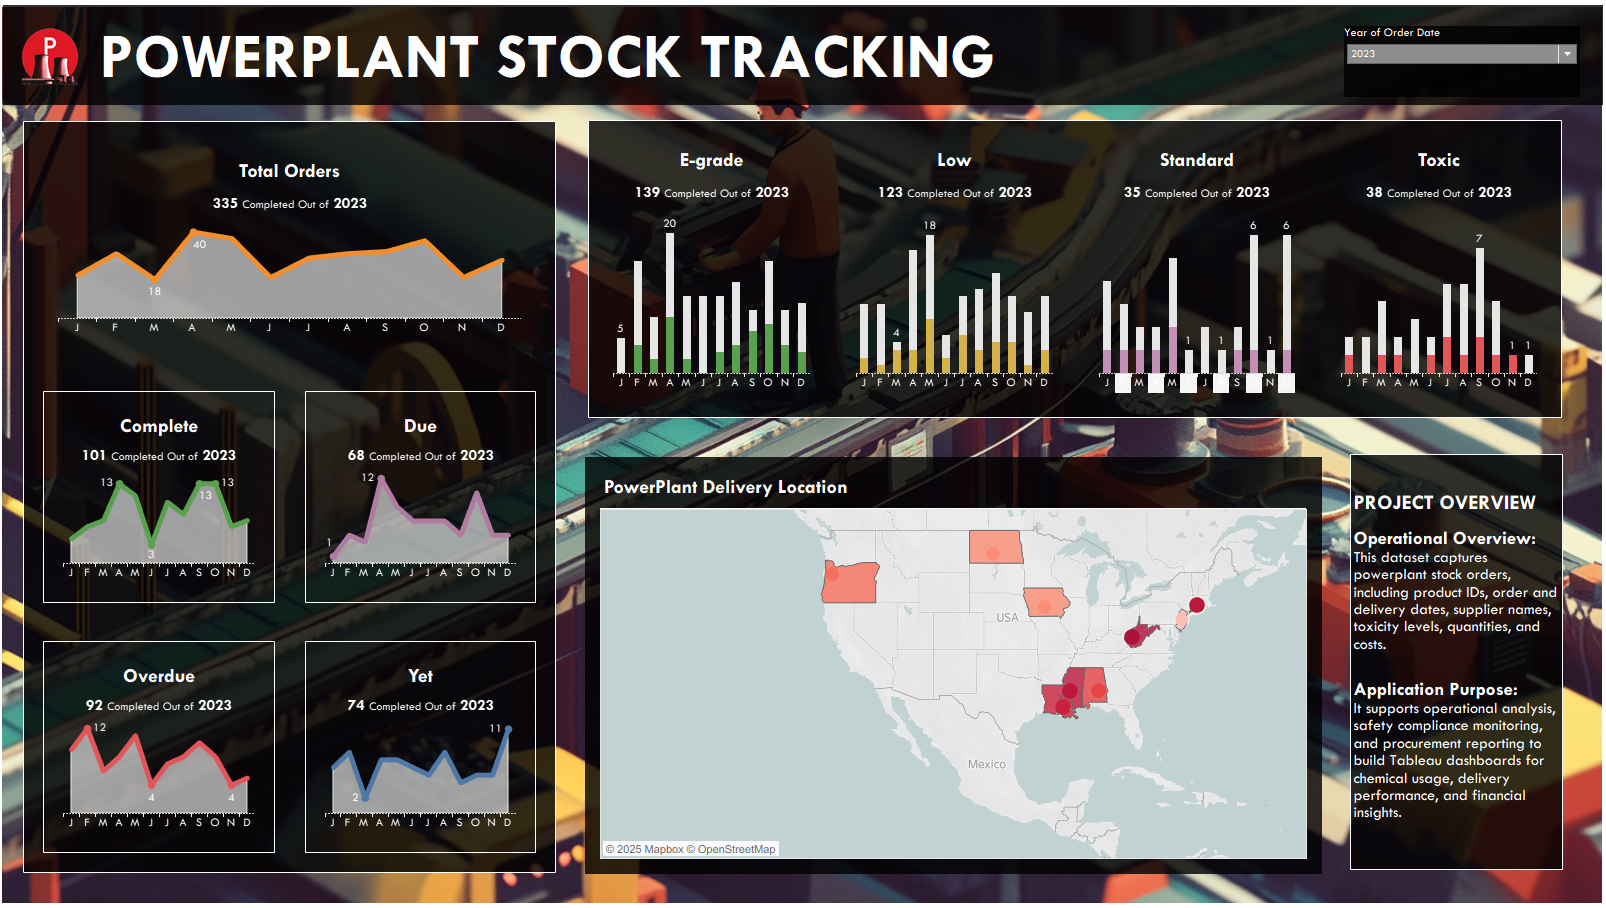

The dashboard page shown, as its layout file describes it:
{"tool":"tableau","page":{"name":"Dashboard 1","canvas":[1600,900],"ordinal":0},"visuals":[{"type":"image","param":"Image/jellyman7461_theme_of_productivity_workbman_on_an_assembly_line_79cf1d19-a","box":[0,0,1600,900]},{"type":"blank","box":[1,0,1600,100]},{"type":"filter","title":"Total 2","param":"[federated.1a669qf1wguesc17z2mcz0d1qr94].[yr:Order Date:ok]","box":[1342,21,236,71]},{"type":"worksheet","title":"E-grade 2","mark":"Automatic","box":[607,136,205,67]},{"type":"worksheet","title":"Low 2","mark":"Automatic","box":[850,136,205,67]},{"type":"worksheet","title":"Standard 2","mark":"Automatic","box":[1093,136,204,67]},{"type":"worksheet","title":"Toxic 2","mark":"Automatic","box":[1335,136,204,67]},{"type":"worksheet","title":"Total 2","mark":"Automatic","box":[52,147,471,67]},{"type":"worksheet","title":"E-Grade","mark":"Bar","rows":["Order ID","Calculation_1323495372498608128"],"cols":["Chemical Grade","Order Date"],"box":[607,203,205,189]},{"type":"worksheet","title":"Low","mark":"Bar","rows":["Order ID","Calculation_1323495372498608128"],"cols":["Chemical Grade","Order Date"],"box":[850,203,205,189]},{"type":"worksheet","title":"Standard","mark":"Bar","rows":["Order ID","Calculation_1323495372498608128"],"cols":["Chemical Grade","Order Date"],"box":[1093,203,204,189]},{"type":"worksheet","title":"Toxic","mark":"Bar","rows":["Order ID","Calculation_1323495372498608128"],"cols":["Chemical Grade","Order Date"],"box":[1335,203,204,189]},{"type":"worksheet","title":"Total","mark":"Automatic","rows":["Order ID","Order ID"],"cols":["Order Date"],"box":[52,214,471,123]},{"type":"worksheet","title":"Complete 2","mark":"Automatic","box":[57,402,200,60]},{"type":"worksheet","title":"Due 2","mark":"Automatic","box":[319,402,199,60]},{"type":"text","box":[1348,449,213,416]},{"type":"worksheet","title":"Map","mark":"Automatic","box":[583,452,737,417]},{"type":"worksheet","title":"Complete","mark":"Automatic","rows":["Order ID","Order ID"],"cols":["Order Date"],"box":[57,462,200,120]},{"type":"worksheet","title":"Due","mark":"Automatic","rows":["Order ID","Order ID"],"cols":["Order Date"],"box":[319,462,199,120]},{"type":"worksheet","title":"Overdue 2","mark":"Automatic","box":[57,652,200,60]},{"type":"worksheet","title":"Yet 2","mark":"Automatic","box":[319,652,199,60]},{"type":"worksheet","title":"Overdue","mark":"Automatic","rows":["Order ID","Order ID"],"cols":["Order Date"],"box":[57,712,200,120]},{"type":"worksheet","title":"Yet","mark":"Automatic","rows":["Order ID","Order ID"],"cols":["Order Date"],"box":[319,712,199,120]}]}

Visuals, with their boxes in screenshot pixels (x1, y1, x2, y2), scaled from the page's 1600x900 canvas onto the 1606x908 screenshot:
image: [0,0,1605,907]
blank: [1,0,1605,101]
"Total 2" filter: [1347,21,1584,93]
"E-grade 2" worksheet: [609,137,815,205]
"Low 2" worksheet: [853,137,1059,205]
"Standard 2" worksheet: [1097,137,1302,205]
"Toxic 2" worksheet: [1340,137,1545,205]
"Total 2" worksheet: [52,148,525,216]
"E-Grade" worksheet (Bar marks): [609,205,815,395]
"Low" worksheet (Bar marks): [853,205,1059,395]
"Standard" worksheet (Bar marks): [1097,205,1302,395]
"Toxic" worksheet (Bar marks): [1340,205,1545,395]
"Total" worksheet: [52,216,525,340]
"Complete 2" worksheet: [57,406,258,466]
"Due 2" worksheet: [320,406,520,466]
text: [1353,453,1567,873]
"Map" worksheet: [585,456,1325,877]
"Complete" worksheet: [57,466,258,587]
"Due" worksheet: [320,466,520,587]
"Overdue 2" worksheet: [57,658,258,718]
"Yet 2" worksheet: [320,658,520,718]
"Overdue" worksheet: [57,718,258,839]
"Yet" worksheet: [320,718,520,839]
